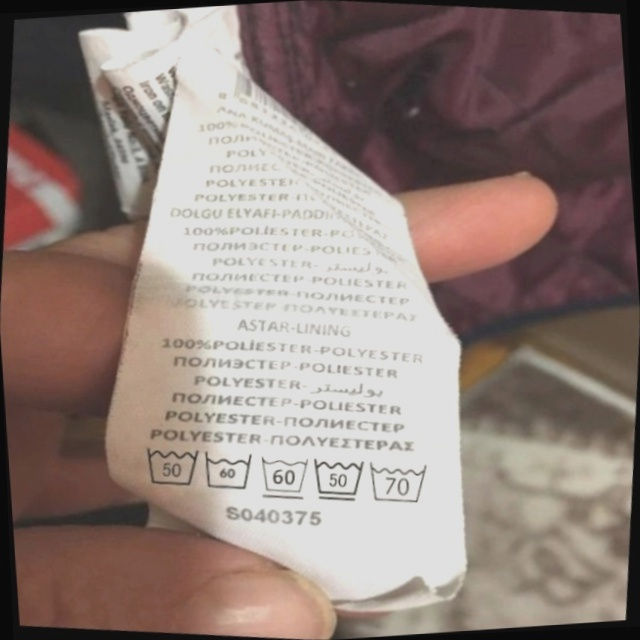50C: (134, 433, 208, 498), (305, 448, 373, 511)
60C: (253, 446, 318, 506), (197, 442, 262, 501)
70C: (364, 452, 439, 512)
